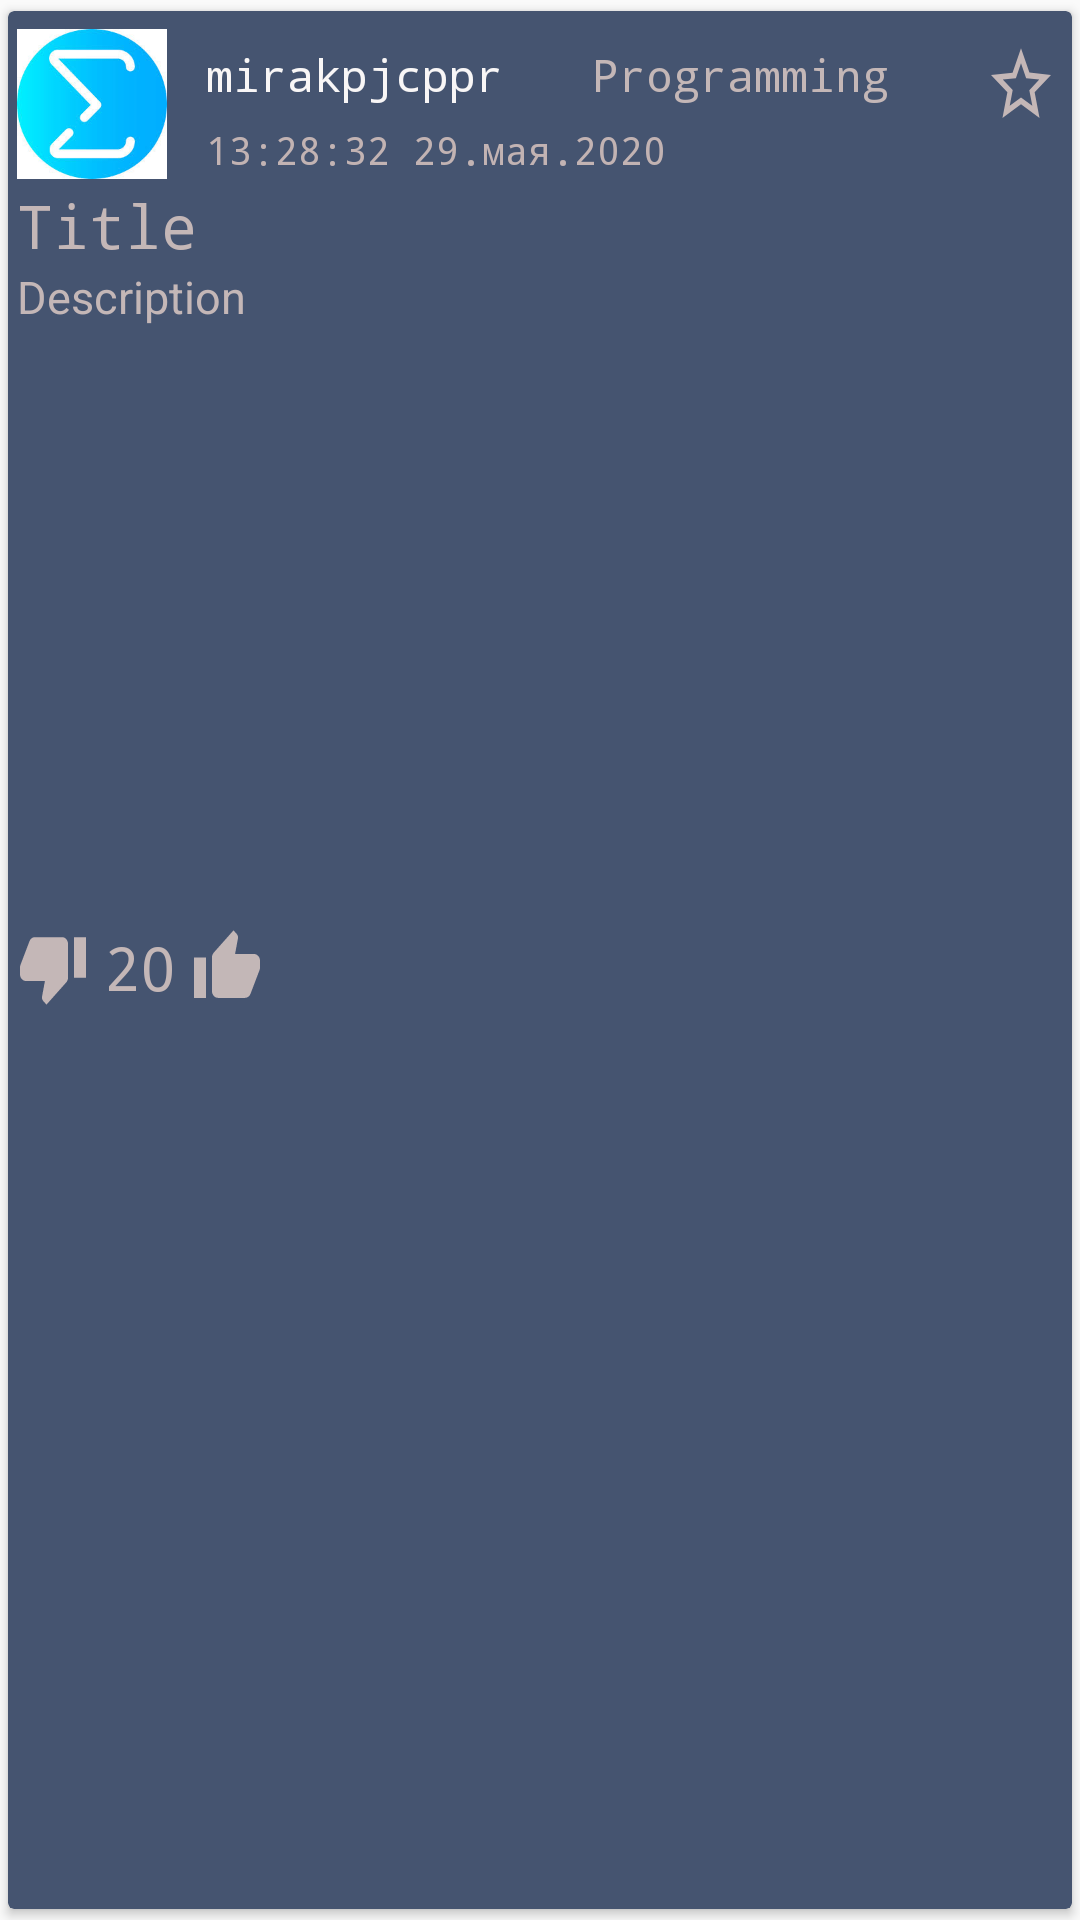

Icons on this 1080*1920 Android screen, each with the point to tap as [x,y]:
sigma: [92,104]
star border: [1021,83]
thumb down: [53,971]
thumb up: [227,964]
